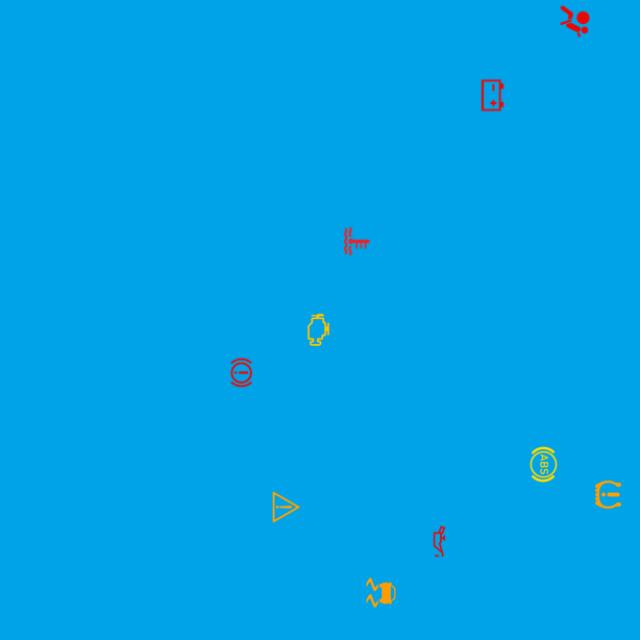Anti Lock Braking System: (524, 445, 563, 484)
Braking System Issue: (222, 353, 261, 392)
Charging System Issue: (473, 76, 512, 115)
Check Engine: (299, 311, 338, 349)
Electronic Stability Problem -ESP-: (362, 573, 400, 612)
Engine Overheating Warning Light: (338, 222, 376, 261)
Low Engine Oil Warning Light: (420, 522, 459, 561)
Low Tire Pressure Warning Light: (589, 475, 627, 514)
Master warning light: (267, 488, 305, 526)
SRS-Airbag: (556, 2, 594, 41)
